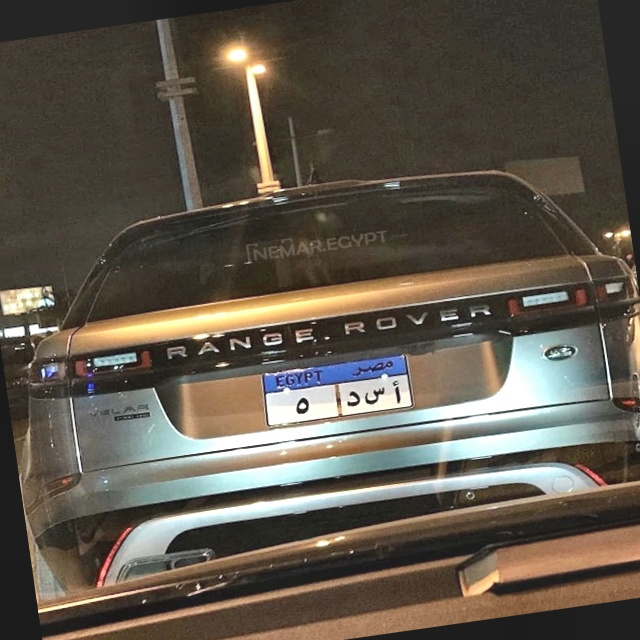License Plate: (255, 348, 419, 432)
